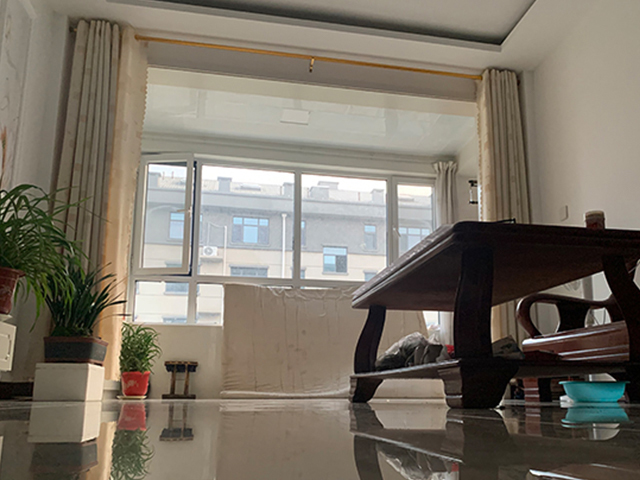curtain: (51, 18, 149, 382), (474, 61, 535, 352)
stool: (162, 359, 199, 399)
table: (346, 220, 640, 411)
